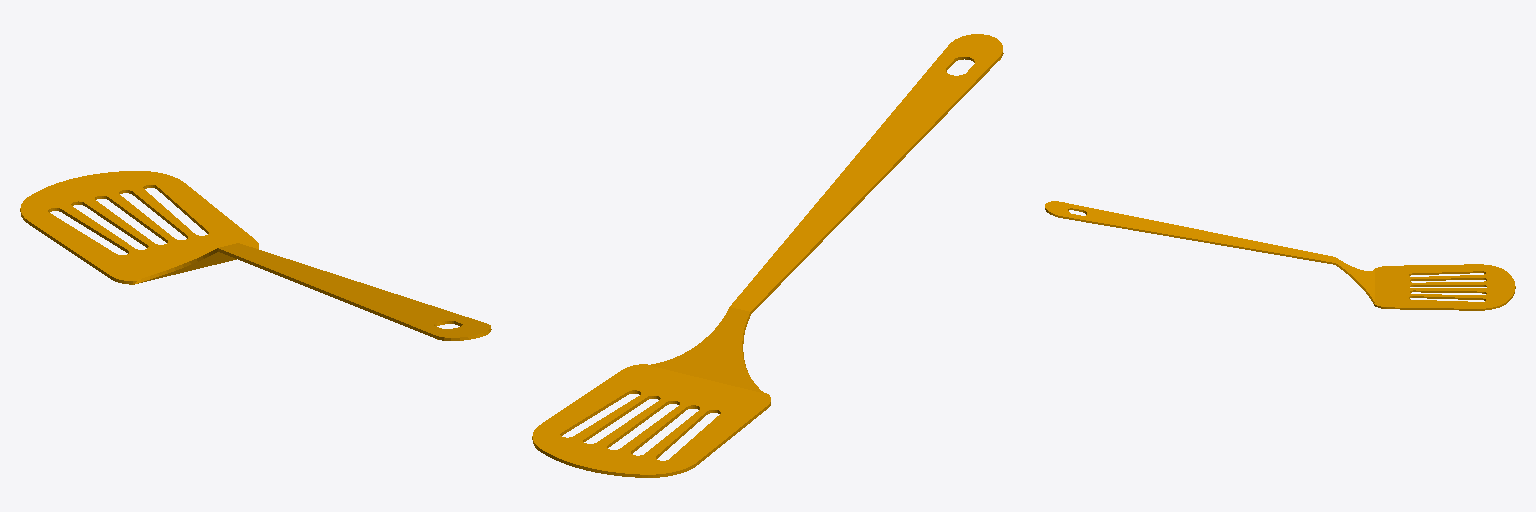
robot.urdf — spatula:
<robot name="spatula">
  <link name="body">
    <visual>
      <geometry>
        <mesh filename="package://pr2_example/models/spatula/spatula.dae" scale="1.0 1.0 1.0" />
      </geometry>
      <origin rpy="0 0 0" xyz="0 0 0" />
    </visual>

    <collision>
      <geometry>
	<mesh filename="package://pr2_example/models/spatula/spatula.dae" scale="1.0 1.0 1.0" />
      </geometry>
      <origin rpy="0 0 0" xyz="0 0 0" />
    </collision>

    <inertial>
      <mass value="10" />
      <inertia ixx="1.0" ixy="0.0" ixz="0.0" iyy="1.0" iyz="0.0" izz="1.0" />
    </inertial>

    <gazebo reference="my_spatula">
    </gazebo>
  </link>
</robot>

--- Render facts (derived) ---
The picture shows the robot from 3 angles, left to right: view 1: azimuth 30°, elevation 25°; view 2: azimuth 150°, elevation 25°; view 3: azimuth 270°, elevation 25°; orthographic projection.
Robot: spatula — 1 links, 0 joints (none); root link body; default pose: every joint at zero.
Links seen in each view (by area): view 1: body; view 2: body; view 3: body.
Link boxes in pixels (bbox=[...]): body: bbox=[20, 171, 491, 340]; body: bbox=[532, 34, 1003, 477]; body: bbox=[1045, 201, 1515, 310].
Size in the robot's own frame: 0.0748 by 0.3338 by 0.0645 metres.
1 mesh visuals loaded from 1 distinct referenced files (1 Collada DAE).